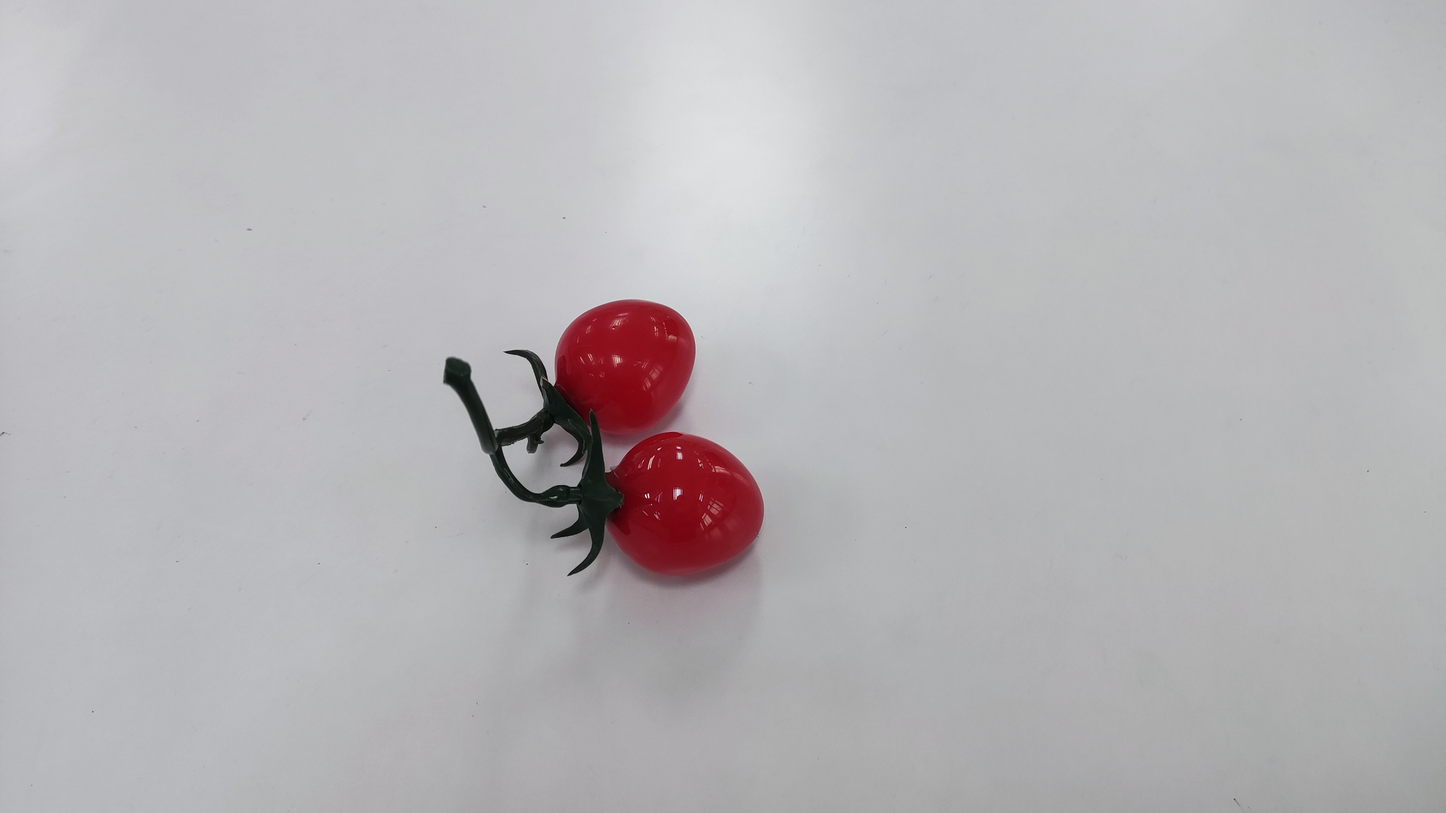peduncle: (453, 379, 493, 435)
strawberry: (606, 431, 764, 574), (553, 298, 695, 434)
